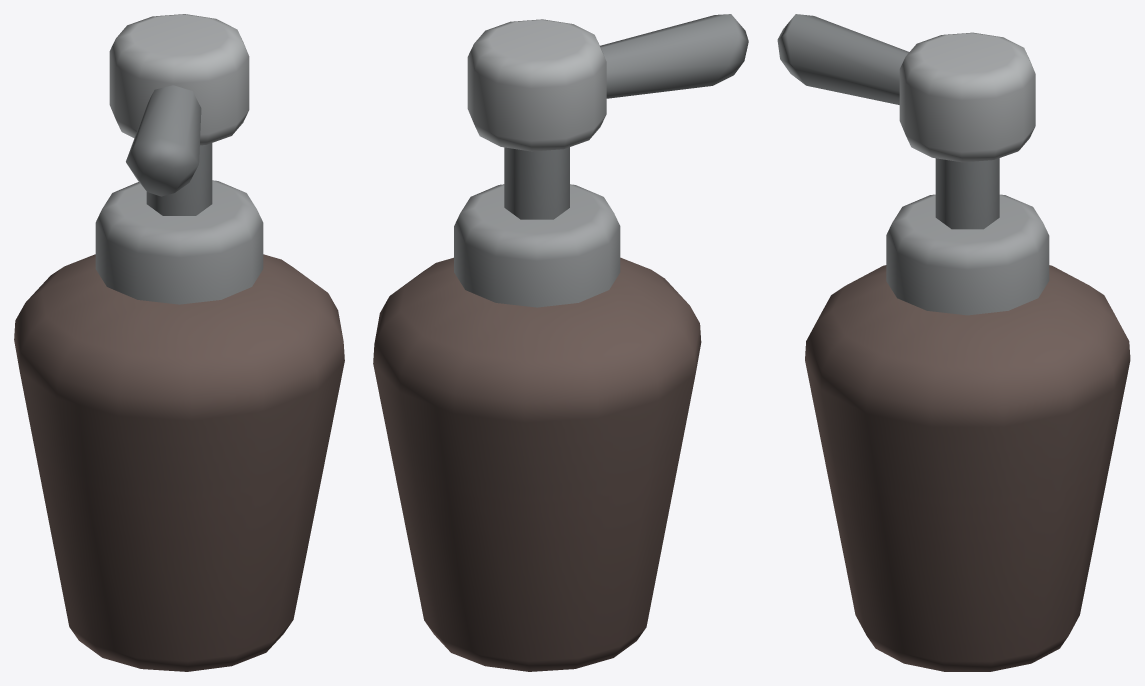
The model's file is Soap_01.glb.
3 views of the same model, side by side, from view 1: azimuth 30°, elevation 25°; view 2: azimuth 150°, elevation 25°; view 3: azimuth 270°, elevation 25° (orthographic). The views are drawn at different scales.
Visible parts, largest first — view 1: Soap_01; view 2: Soap_01; view 3: Soap_01.
Part boxes in pixels (x1,y1,x2,y2): Soap_01: (14,14,344,671); Soap_01: (373,14,748,671); Soap_01: (777,14,1130,671).
Size of the model in its own units: 0.1121 by 0.2271 by 0.1247.
Materials: 1 (1 with a texture image).
